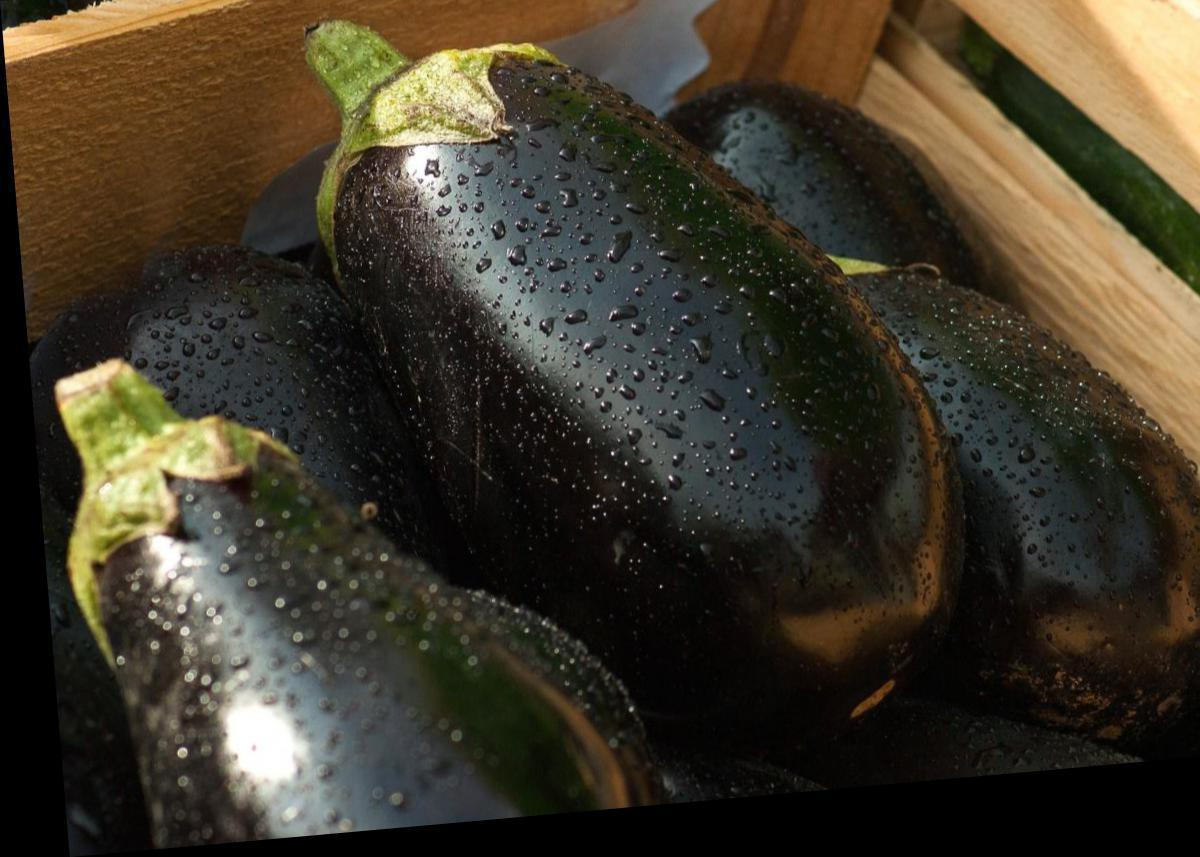eggplant: (42, 30, 952, 822)
